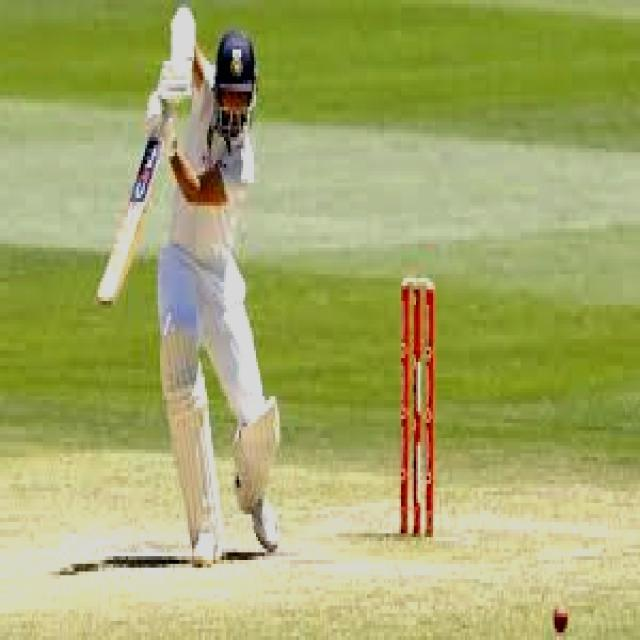bat: (96, 122, 173, 310)
toe: (95, 296, 123, 308)
